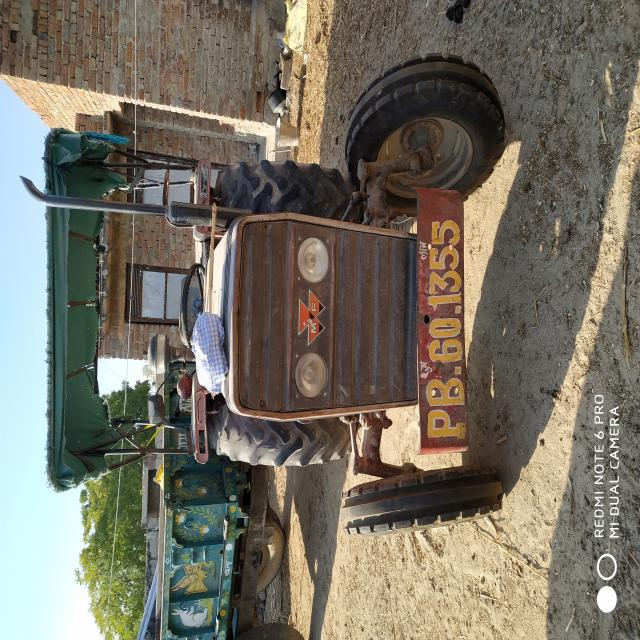Tractor: (66, 35, 464, 640)
